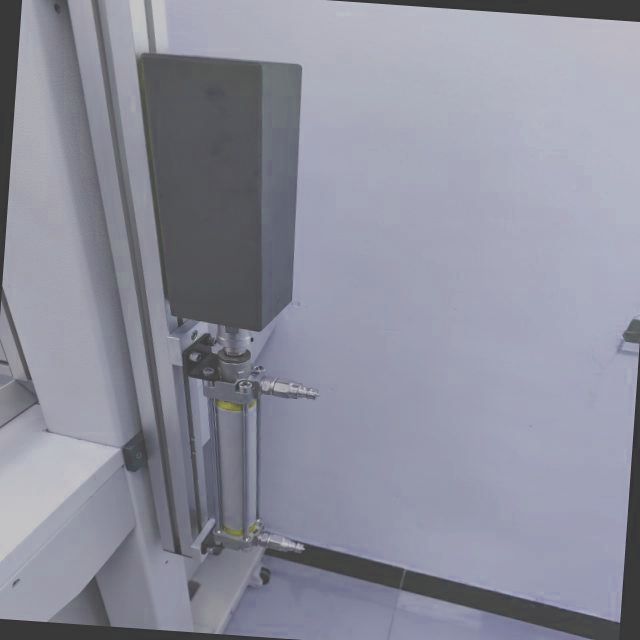load: (87, 46, 348, 567)
